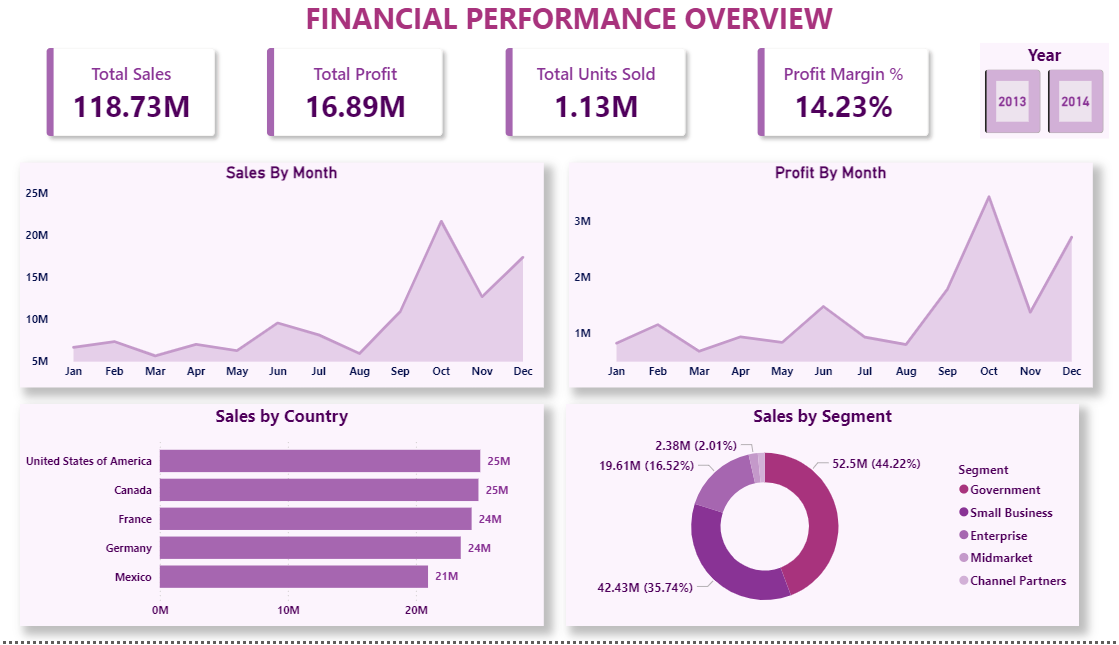

What the dashboard file says about the page in this screenshot:
{"tool":"powerbi","page":{"name":"Page 1","canvas":[1280,720],"ordinal":0},"visuals":[{"type":"cardVisual","fields":{"Data":["Sum(financials. Sales)"]},"box":[30,31.7,245,156.7],"z":0},{"type":"cardVisual","fields":{"Data":["Sum(financials.Profit)"]},"box":[275,31.7,253.3,156.7],"z":1000},{"type":"cardVisual","fields":{"Data":["Sum(financials.Units Sold)"]},"box":[540,31.7,258.3,156.7],"z":2000},{"type":"cardVisual","fields":{"Data":["financials.Profit Margin %"]},"box":[820,31.7,248.3,156.7],"z":3000},{"type":"lineChart","title":"Sales By Month","fields":{"Category":["financials.Month Short"],"Y":["Sum(financials.Sales)"]},"box":[30,188.3,581.7,250],"z":4000},{"type":"lineChart","title":"Profit By Month","fields":{"Category":["financials.Month Short"],"Y":["Sum(financials.Profit)"]},"box":[640,188.3,581.7,250],"z":5000},{"type":"clusteredBarChart","title":"Sales by Country","fields":{"Category":["financials.Country"],"Y":["Sum(financials.Sales)"]},"box":[30,456.7,581.7,246.7],"z":6000},{"type":"donutChart","title":"Sales by Segment","fields":{"Category":["financials.Segment"],"Y":["Sum(financials.Sales)"]},"box":[636.7,456.7,570,246.7],"z":7000},{"type":"advancedSlicerVisual","fields":{"Values":["financials.Year"]},"box":[1096.7,55,143.3,106.7],"z":8000},{"type":"textbox","box":[0,0,1280,55],"z":8001}]}

Visuals, with their boxes in screenshot pixels (x1, y1, x2, y2), scaled from the page's 1280x720 canvas onto the 1119x645 screenshot:
cardVisual - Sum(financials. Sales): detection(26, 28, 240, 169)
cardVisual - Sum(financials.Profit): detection(240, 28, 462, 169)
cardVisual - Sum(financials.Units Sold): detection(472, 28, 698, 169)
cardVisual - financials.Profit Margin %: detection(717, 28, 934, 169)
"Sales By Month" lineChart: detection(26, 169, 535, 393)
"Profit By Month" lineChart: detection(560, 169, 1068, 393)
"Sales by Country" clusteredBarChart: detection(26, 409, 535, 630)
"Sales by Segment" donutChart: detection(557, 409, 1055, 630)
advancedSlicerVisual - financials.Year: detection(959, 49, 1084, 145)
textbox: detection(0, 0, 1118, 49)
